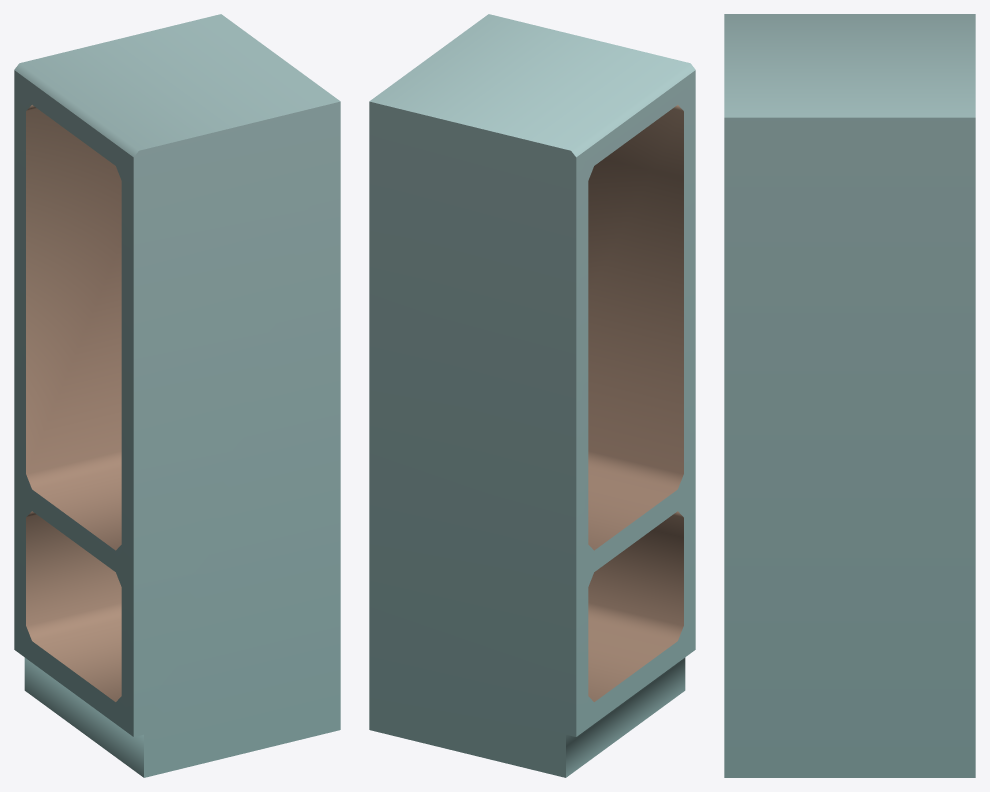
File: cabinet-decorative-high-door.glb
3 views of the same model, side by side, from view 1: azimuth 30°, elevation 25°; view 2: azimuth 150°, elevation 25°; view 3: azimuth 270°, elevation 25° (orthographic). The views are drawn at different scales.
Visible parts, largest first — view 1: cabinet-decorative-high-door; view 2: cabinet-decorative-high-door; view 3: cabinet-decorative-high-door.
Boxes of the visible parts, x1,y1,x2,y2 form: cabinet-decorative-high-door: (14, 14, 340, 777); cabinet-decorative-high-door: (369, 14, 695, 777); cabinet-decorative-high-door: (724, 14, 975, 777).
Bounding box in the file's own units: 0.5 × 1.45 × 0.5.
